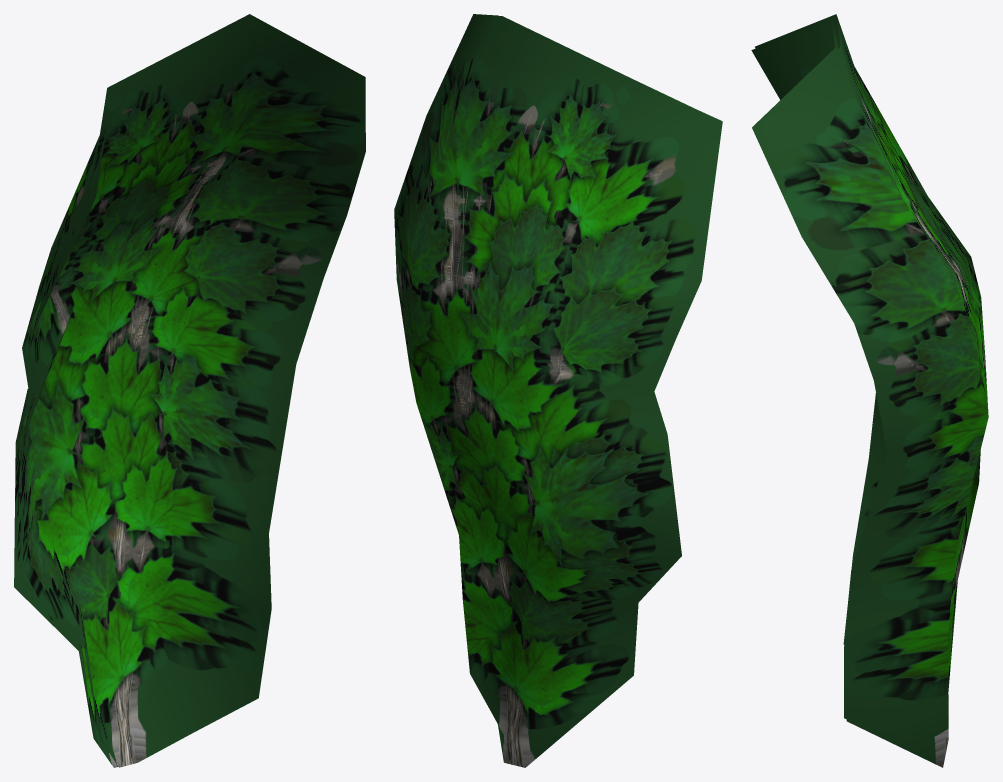
Rendered from branch_5.fbx.
The picture shows the model from 3 angles, left to right: view 1: azimuth 30°, elevation 25°; view 2: azimuth 150°, elevation 25°; view 3: azimuth 270°, elevation 25°; orthographic projection. The views are drawn at different scales.
Visible parts, largest first — view 1: branch_5; view 2: branch_5; view 3: branch_5.
Part boxes in pixels (x1,y1,x2,y2): branch_5: [14, 14, 365, 767]; branch_5: [394, 14, 722, 767]; branch_5: [751, 14, 988, 767].
Bounding box in the file's own units: 1.75 × 3.96 × 1.14.
